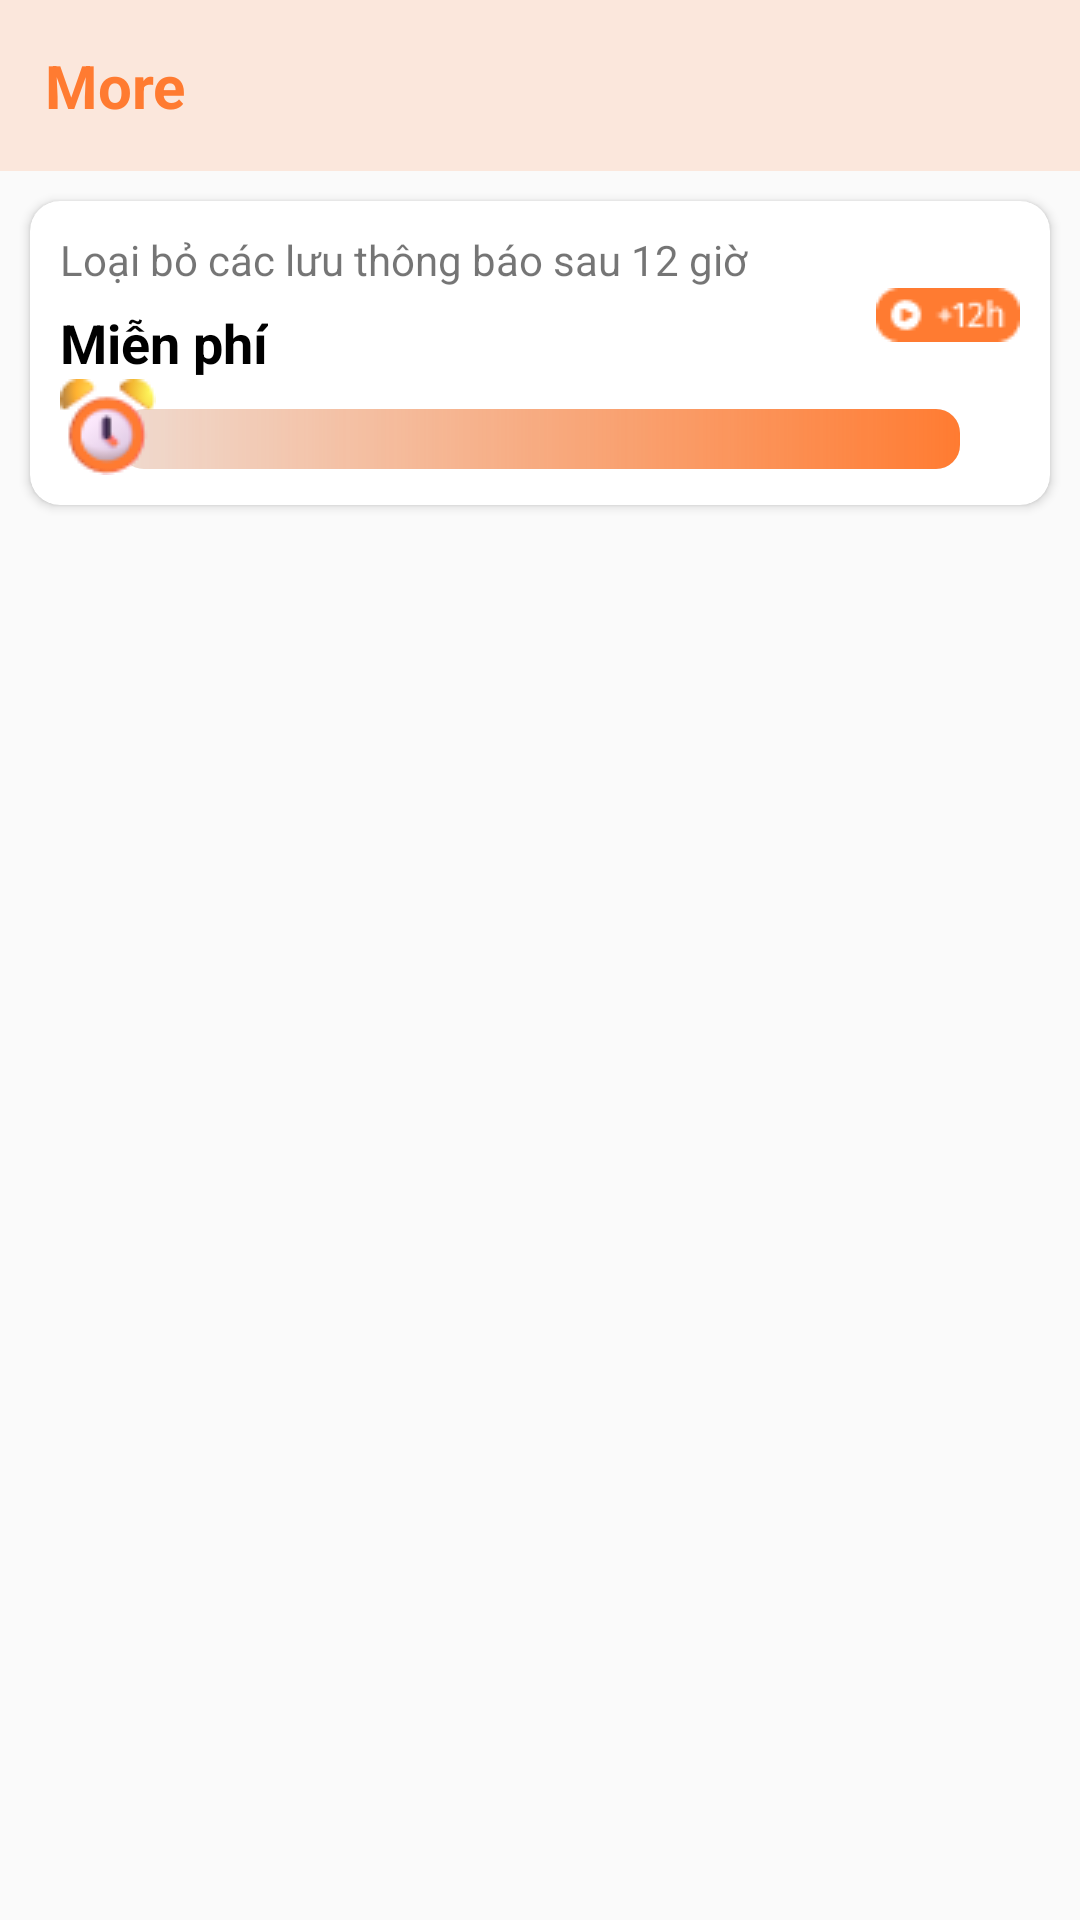

Named icons in this screenshot (1080px x 1920px) and their centers, (x=x, y=y):
clock: (x=108, y=427)
